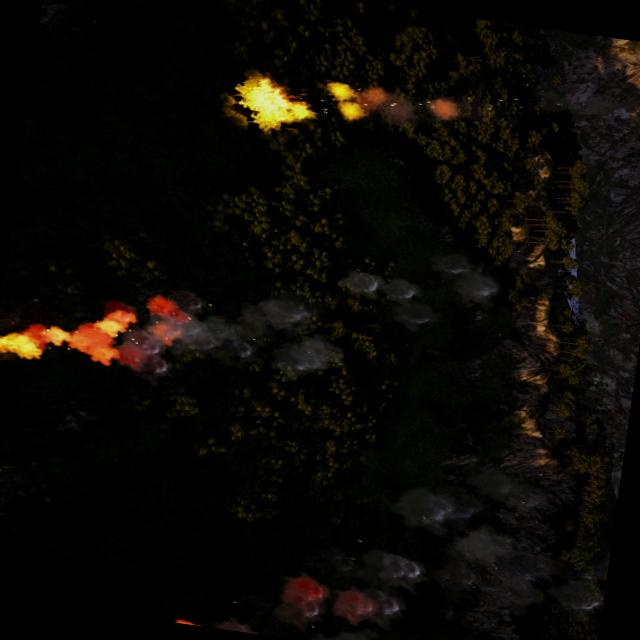fire: (232, 76, 308, 135)
smoke: (189, 428, 569, 640), (0, 259, 355, 432), (342, 80, 490, 136), (337, 265, 443, 330), (420, 250, 504, 306)
